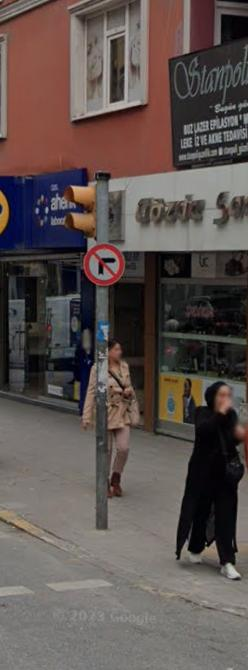rightturnsareforbidden: (80, 242, 129, 293)
